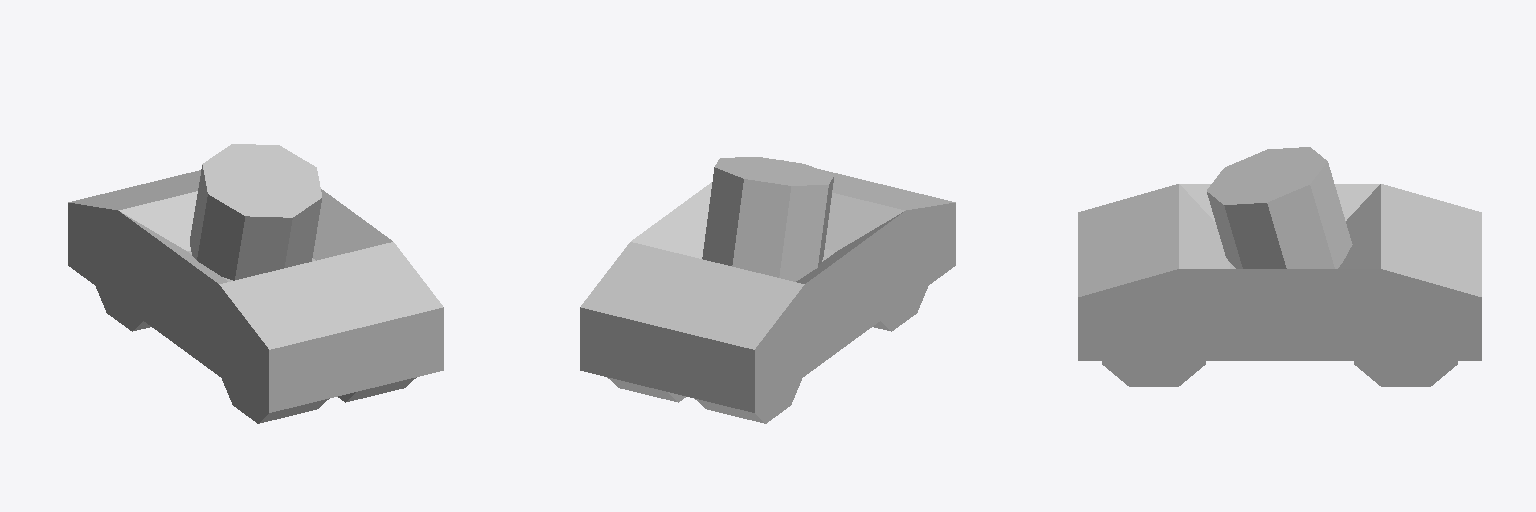
Rendered from Mortar.obj.
3 views of the same model, side by side, from view 1: azimuth 30°, elevation 25°; view 2: azimuth 150°, elevation 25°; view 3: azimuth 270°, elevation 25° (orthographic).
Visible parts, largest first — view 1: MortarBase_Cube, MortarBarrel_Cylinder; view 2: MortarBase_Cube, MortarBarrel_Cylinder; view 3: MortarBase_Cube, MortarBarrel_Cylinder.
Part boxes in pixels (x1,y1,x2,y2): MortarBase_Cube: (68,170,443,423); MortarBarrel_Cylinder: (190,144,321,280); MortarBase_Cube: (580,160,955,423); MortarBarrel_Cylinder: (702,157,833,281); MortarBase_Cube: (1078,184,1481,386); MortarBarrel_Cylinder: (1207,147,1352,268).
Bounding box in the file's own units: 2 × 2.07 × 4.